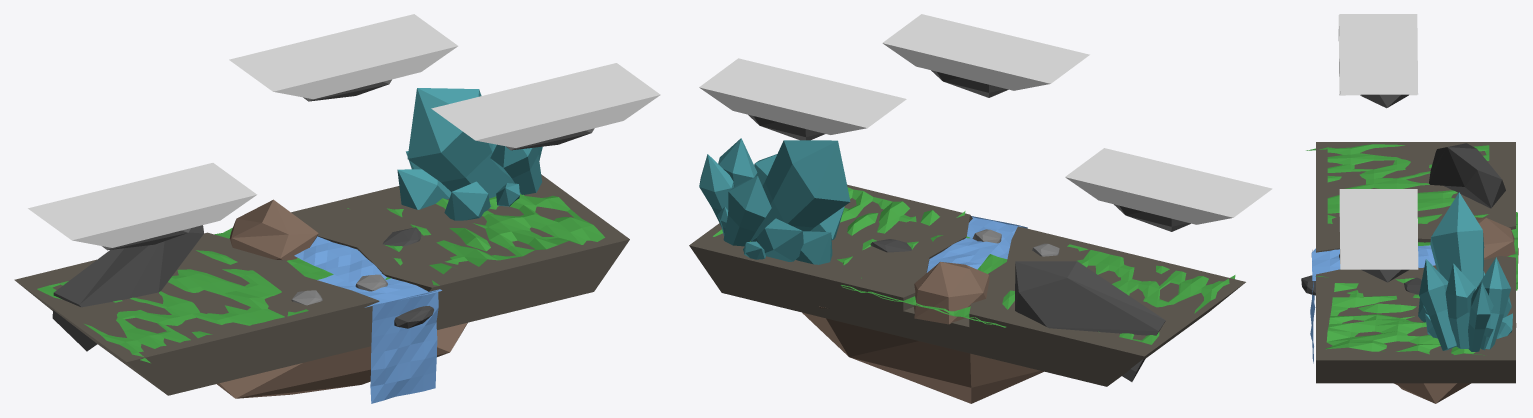
File: level design day 4.fbx
The picture shows the model from 3 angles, left to right: view 1: azimuth 30°, elevation 25°; view 2: azimuth 150°, elevation 25°; view 3: azimuth 270°, elevation 25°; orthographic projection. The views are drawn at different scales.
Visible parts, largest first — view 1: Cube, Mineral, Cube.001, Cube.002, Cube.003, Plane.008, Rock6, Plane.010, Plane.011, Rock4.001, Rock4, Plane.009 (+3 smaller); view 2: Cube, Mineral, Cube.001, Cube.002, Cube.003, Rock6, Rock4.001, Plane.008, Rock4, Plane.010, Plane.009, Plane.006 (+4 smaller); view 3: Cube, Mineral, Cube.001, Cube.003, Plane.010, Plane.008, Rock6, Rock4, Rock4.001, Plane.006, Rock4.004, Rock4.006 (+5 smaller).
Boxes of the visible parts, x1,y1,x2,y2 form: Cube: (14, 174, 629, 395); Mineral: (397, 88, 542, 220); Cube.001: (431, 63, 660, 147); Cube.002: (28, 163, 256, 247); Cube.003: (229, 14, 457, 99); Plane.008: (37, 250, 308, 363); Rock6: (52, 225, 203, 351); Plane.010: (347, 194, 604, 285); Plane.011: (370, 290, 438, 403); Rock4.001: (217, 322, 467, 398); Rock4: (229, 199, 318, 260); Plane.009: (294, 236, 381, 282); Cube: (689, 184, 1245, 386); Mineral: (699, 138, 850, 264); Cube.001: (699, 58, 906, 134); Cube.002: (1065, 148, 1272, 224); Cube.003: (882, 14, 1089, 90); Rock6: (1015, 261, 1165, 381); Rock4.001: (802, 306, 1043, 403); Plane.008: (1002, 244, 1235, 344); Rock4: (914, 261, 989, 324); Plane.010: (713, 187, 965, 278); Plane.009: (926, 239, 998, 272); Plane.006: (964, 217, 1021, 258); Cube: (1316, 142, 1515, 383); Mineral: (1418, 192, 1512, 351); Cube.001: (1339, 189, 1418, 269); Cube.003: (1339, 14, 1418, 94); Plane.010: (1315, 276, 1484, 355); Plane.008: (1306, 144, 1489, 223); Rock6: (1429, 143, 1505, 208); Rock4: (1432, 217, 1518, 263); Rock4.001: (1394, 323, 1516, 403); Plane.006: (1312, 248, 1340, 280); Rock4.004: (1361, 269, 1409, 282); Rock4.006: (1361, 94, 1408, 107).
Bounding box in the file's own units: 6948 × 4080 × 2497.
